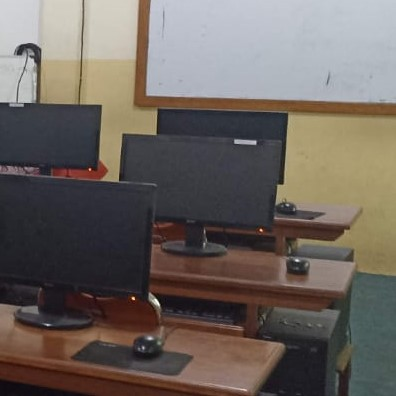monitor: (134, 1, 394, 116), (0, 173, 156, 302), (119, 133, 284, 232), (156, 108, 288, 185), (0, 103, 102, 172)
